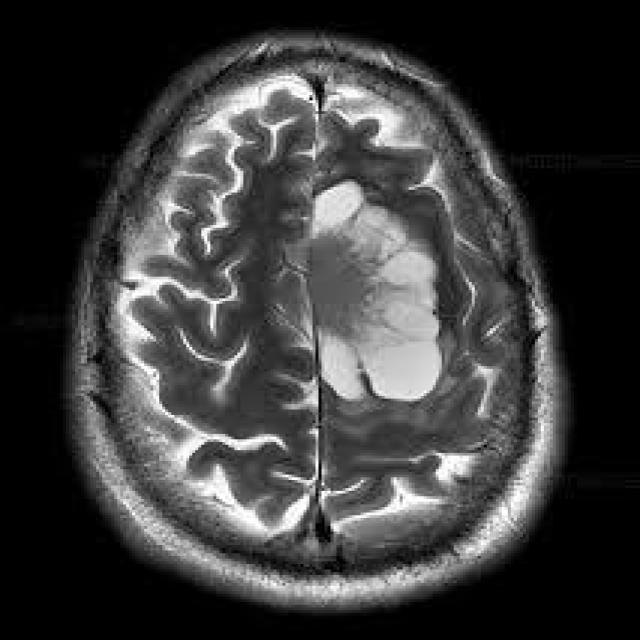Tumor: (312, 182, 445, 401)
